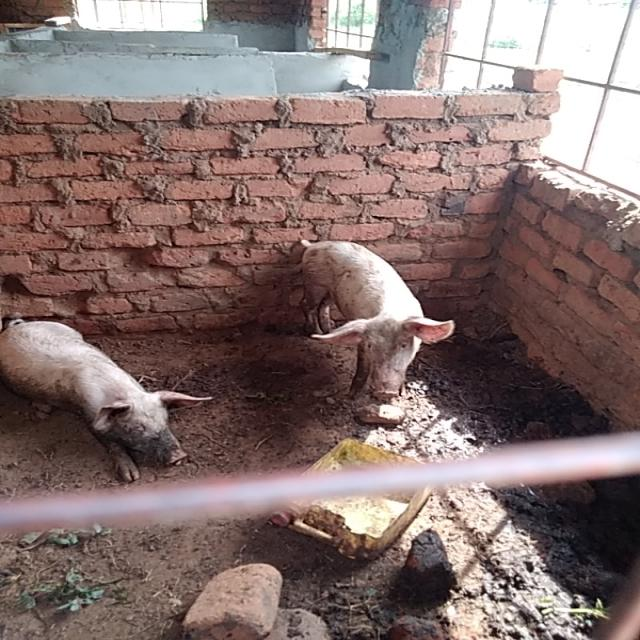pig: (267, 216, 477, 422)
